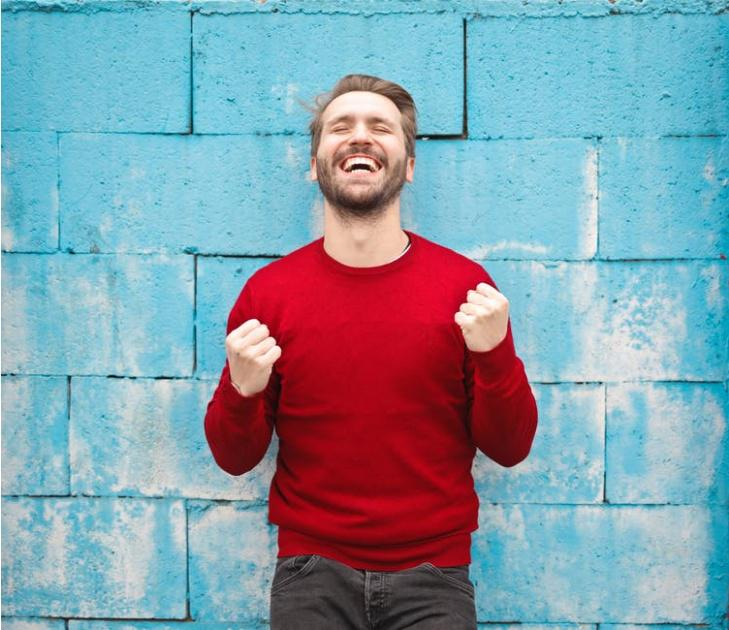face: (317, 92, 405, 207)
